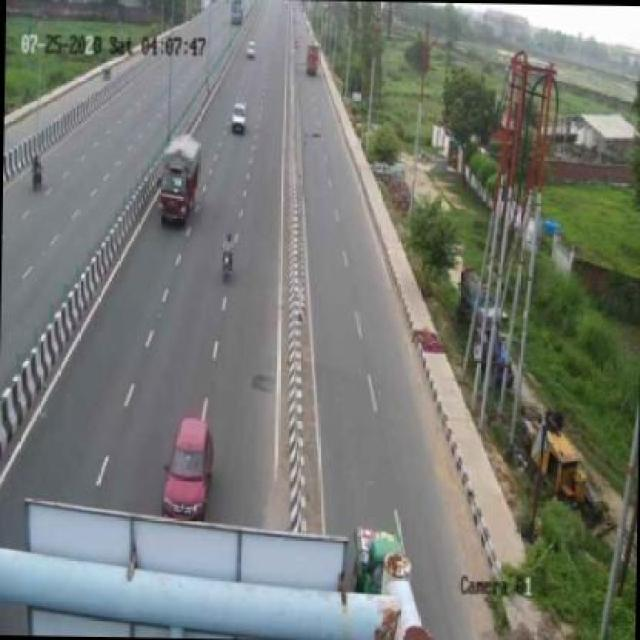car: (156, 412, 222, 517), (230, 96, 252, 136), (243, 34, 263, 61)
